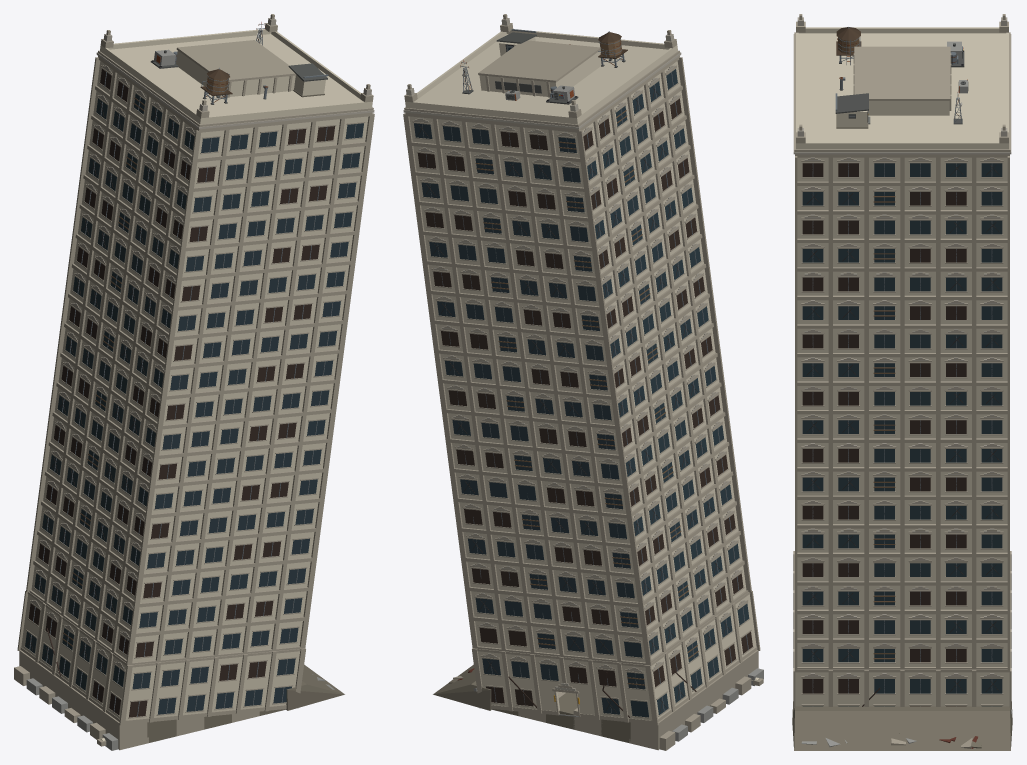
File: tw_leaning_tower.glb
The picture shows the model from 3 angles, left to right: view 1: azimuth 30°, elevation 25°; view 2: azimuth 150°, elevation 25°; view 3: azimuth 270°, elevation 25°; orthographic projection. The views are drawn at different scales.
Visible parts, largest first — view 1: tw_leaning_tower; view 2: tw_leaning_tower; view 3: tw_leaning_tower.
Boxes of the visible parts, box(x1,y1,x2,y2) form: tw_leaning_tower: box(14, 14, 374, 750); tw_leaning_tower: box(403, 14, 763, 750); tw_leaning_tower: box(792, 14, 1012, 750).
Size of what is drawn, in the model's own units: 36.51 by 83.07 by 24.6.
Materials: 3 (3 with a texture image).
